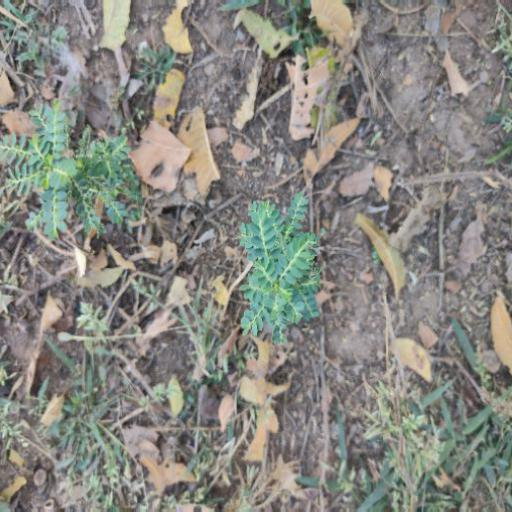weed: (1, 89, 159, 282), (216, 190, 395, 352)
